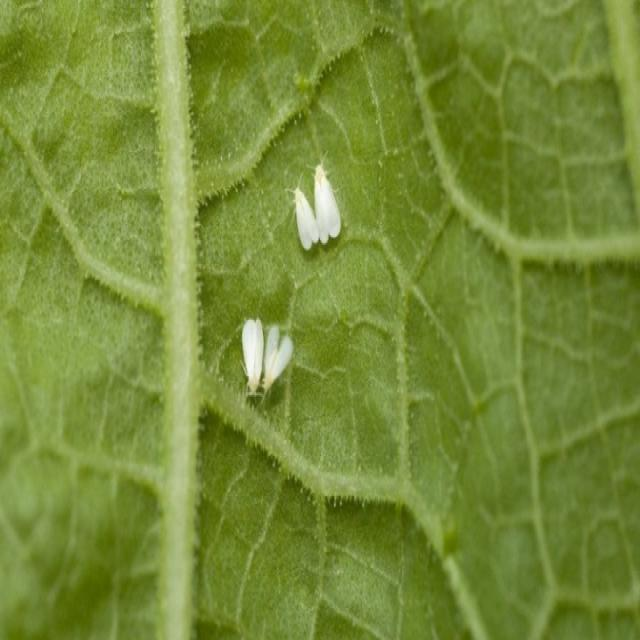Whitefly: (230, 306, 306, 408), (280, 151, 350, 258)
